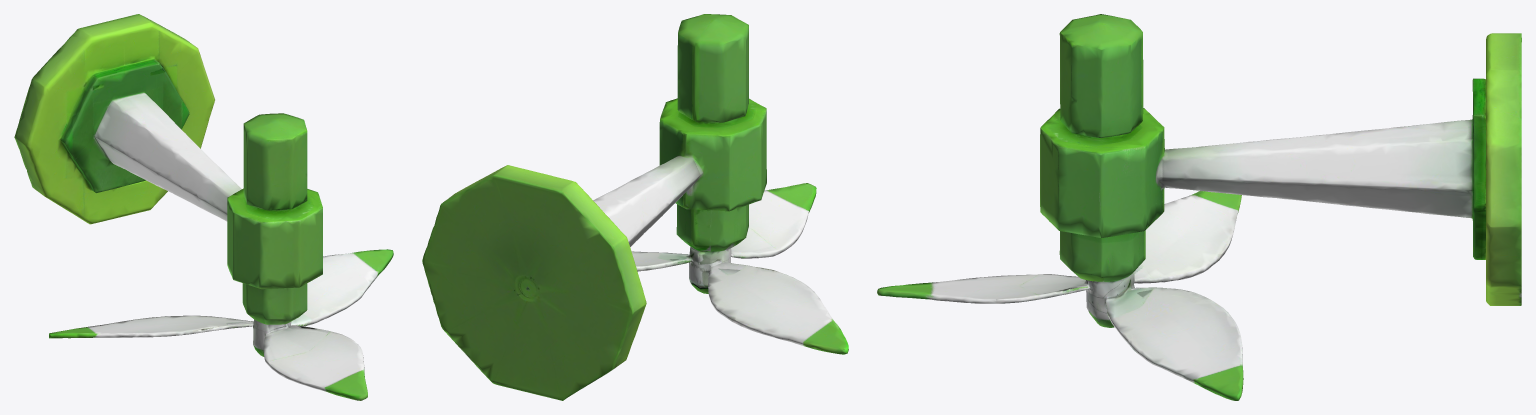
The model's file is Disprosio.fbx.
The picture shows the model from 3 angles, left to right: view 1: azimuth 30°, elevation 25°; view 2: azimuth 150°, elevation 25°; view 3: azimuth 270°, elevation 25°; orthographic projection. The views are drawn at different scales.
Parts seen in each view (by area): view 1: Mesh_0.020; view 2: Mesh_0.020; view 3: Mesh_0.020.
Boxes of the visible parts, box(x1,y1,x2,y2) form: Mesh_0.020: box(14, 14, 393, 400); Mesh_0.020: box(422, 14, 848, 400); Mesh_0.020: box(877, 14, 1521, 400).
Size of the model in its own units: 4219 by 2801 by 5414.
